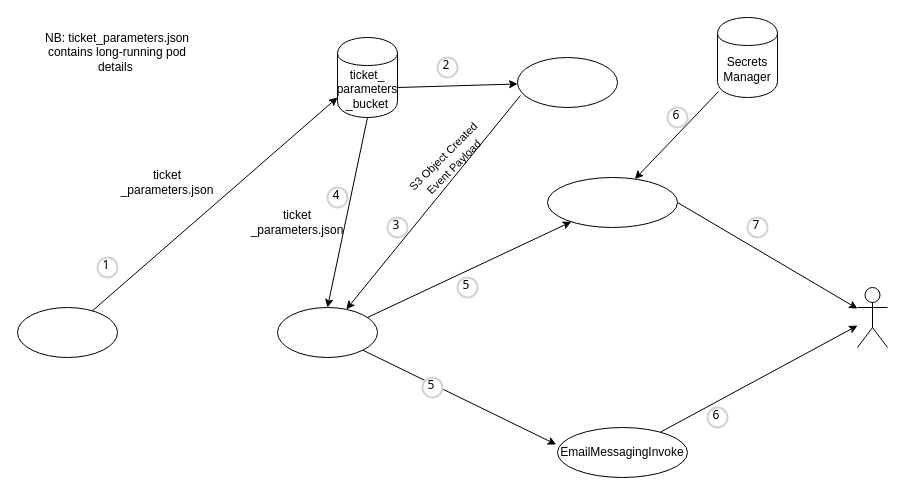
Some shapes in this 917 by 495 pixel diagram are drawn without their labels. The shapes that lost their labels are listed below. From the top down, each one's box as (x1, y1, x2, y2) in pixels, then its label:
(516, 56, 618, 108): 'create_object' trigger (eventbridge)
(546, 176, 678, 228): SlackMessagingInvoke
(16, 306, 118, 358): build_ticket
(276, 306, 378, 358): EmailLookupInvoke
(856, 286, 888, 348): customers
